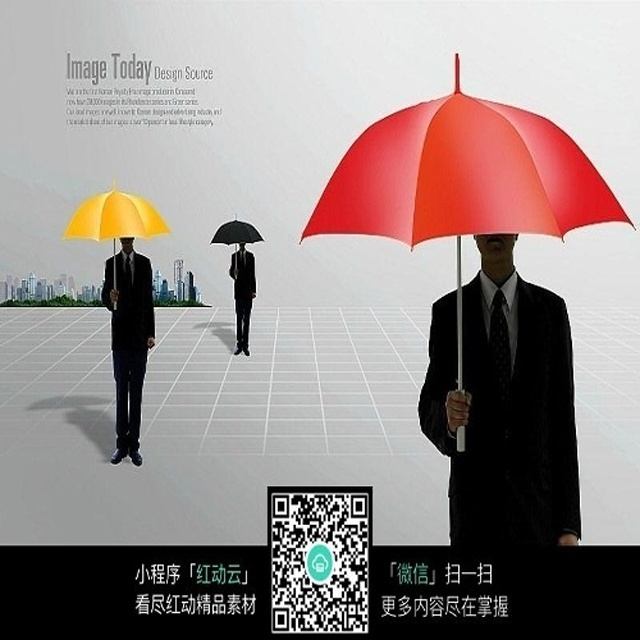person: (417, 230, 587, 548), (100, 235, 157, 471), (226, 243, 258, 359)
umbrella: (298, 51, 640, 456), (57, 180, 173, 315), (209, 215, 263, 286)
